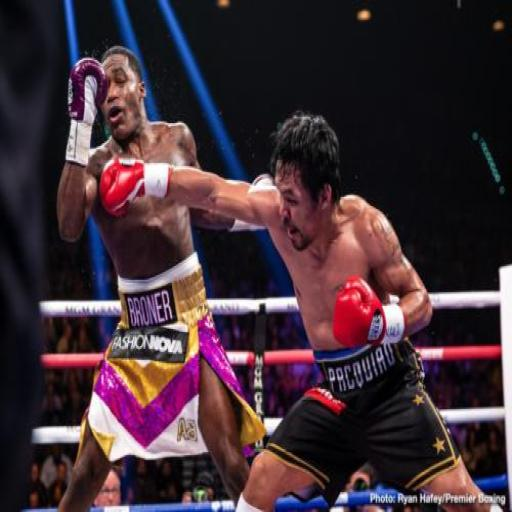boxing: (93, 108, 511, 510), (0, 22, 280, 512)
